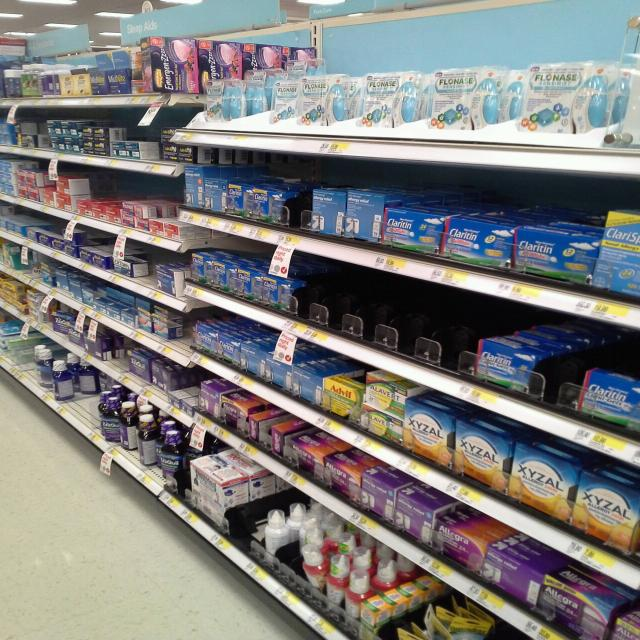empty: (301, 258, 467, 361), (227, 467, 263, 565), (540, 353, 588, 422), (170, 308, 197, 362), (138, 240, 162, 296), (286, 181, 307, 234)
